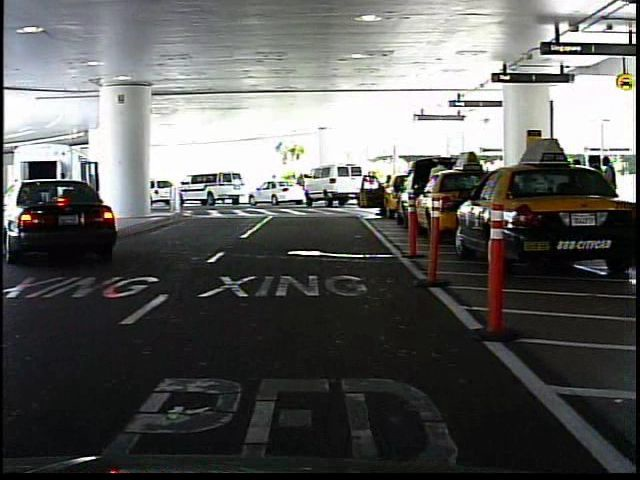person: (425, 156, 452, 226), (267, 172, 283, 201), (295, 170, 309, 202)
